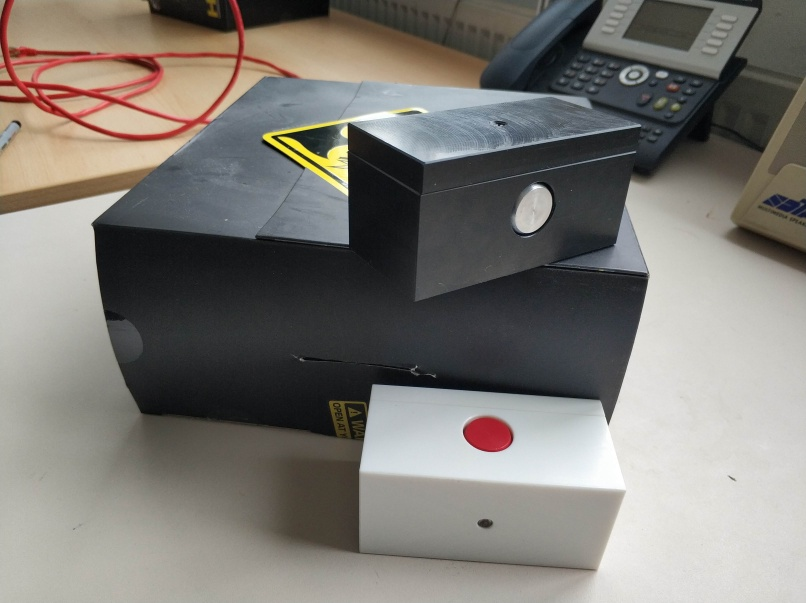black+black+silver: (346, 94, 642, 305)
white+white+red: (355, 382, 631, 574)
